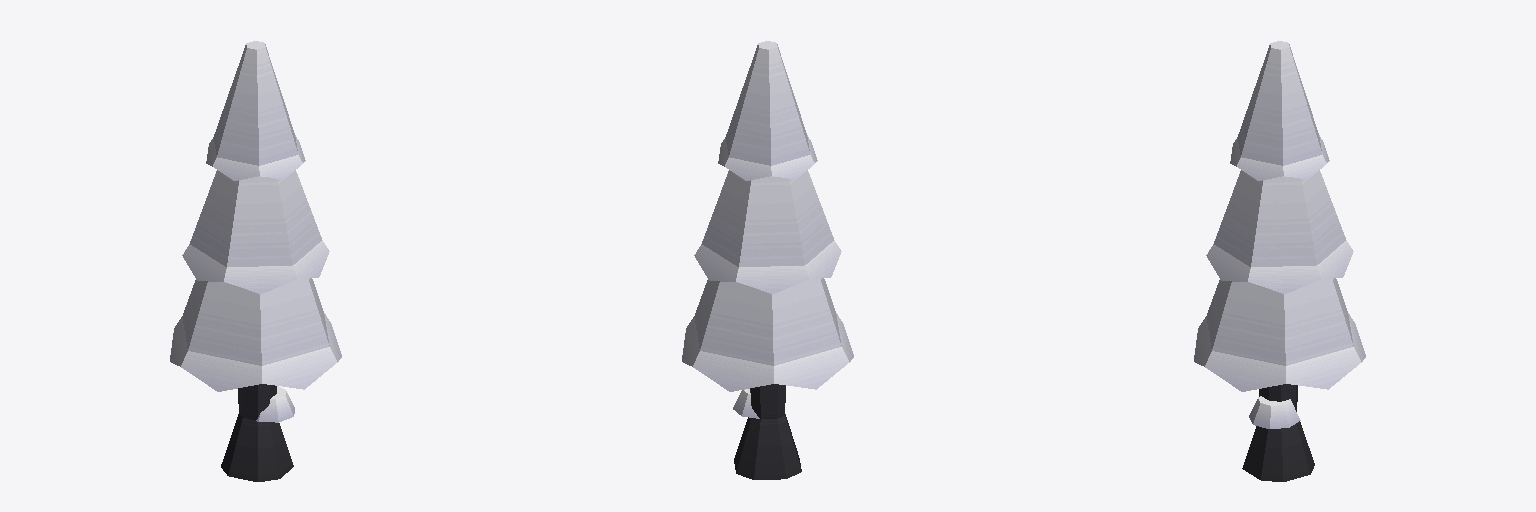
The picture shows the model from 3 angles: view 1: azimuth 30°, elevation 25°; view 2: azimuth 150°, elevation 25°; view 3: azimuth 270°, elevation 25°; orthographic projection.
Visible parts, largest first — view 1: tree.062; view 2: tree.062; view 3: tree.062.
Part boxes in pixels (left/top/right/bottom): tree.062: left=170, top=41, right=341, bottom=481; tree.062: left=682, top=41, right=853, bottom=479; tree.062: left=1194, top=41, right=1365, bottom=481.
Bounding box in the file's own units: 1.36 × 3.47 × 1.29.
1 materials, 1 textured.